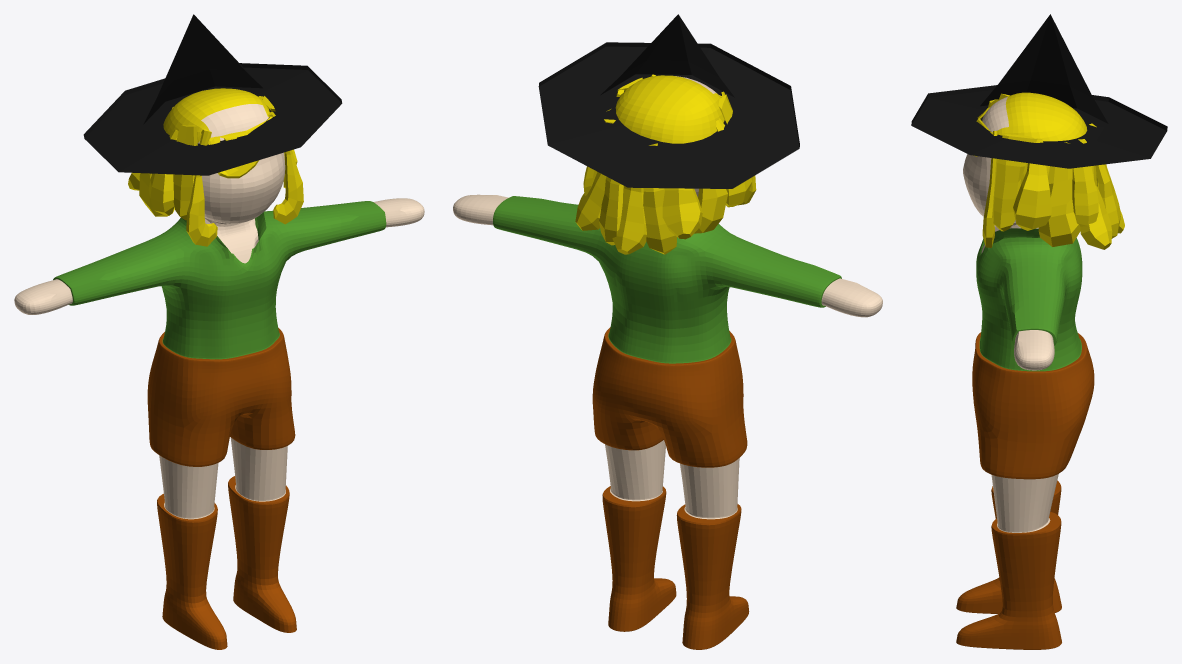
Rendered from witchTest.fbx.
3 views of the same model, side by side, from view 1: azimuth 30°, elevation 25°; view 2: azimuth 150°, elevation 25°; view 3: azimuth 270°, elevation 25° (orthographic). The views are drawn at different scales.
Visible parts, largest first — view 1: body, hat, hair1, hair2, hair3, hairFringe; view 2: body, hat, hair2, hair3, hair1; view 3: body, hat, hair3, hair2, hair1.
Part boxes in pixels (x1=…): body: x1=14, y1=88, x2=424, y2=649; hat: x1=83, y1=14, x2=342, y2=175; hair1: x1=139, y1=111, x2=303, y2=246; hair2: x1=128, y1=96, x2=297, y2=215; hair3: x1=172, y1=96, x2=285, y2=220; hairFringe: x1=208, y1=116, x2=272, y2=178; body: x1=453, y1=75, x2=882, y2=649; hat: x1=538, y1=14, x2=799, y2=188; hair2: x1=575, y1=89, x2=752, y2=254; hair3: x1=583, y1=77, x2=732, y2=254; hair1: x1=606, y1=74, x2=756, y2=233; body: x1=956, y1=92, x2=1094, y2=649; hat: x1=911, y1=14, x2=1167, y2=168; hair3: x1=993, y1=93, x2=1121, y2=238; hair2: x1=1013, y1=138, x2=1124, y2=249; hair1: x1=982, y1=99, x2=1080, y2=247.
Bounding box in the file's own units: 415 × 588 × 227.
